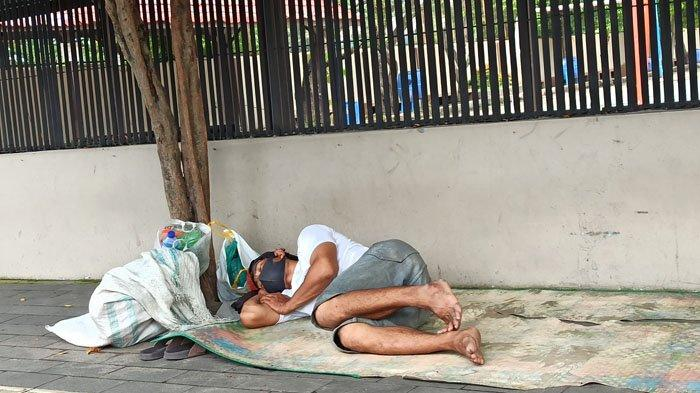gelandangan: (74, 204, 484, 376)
